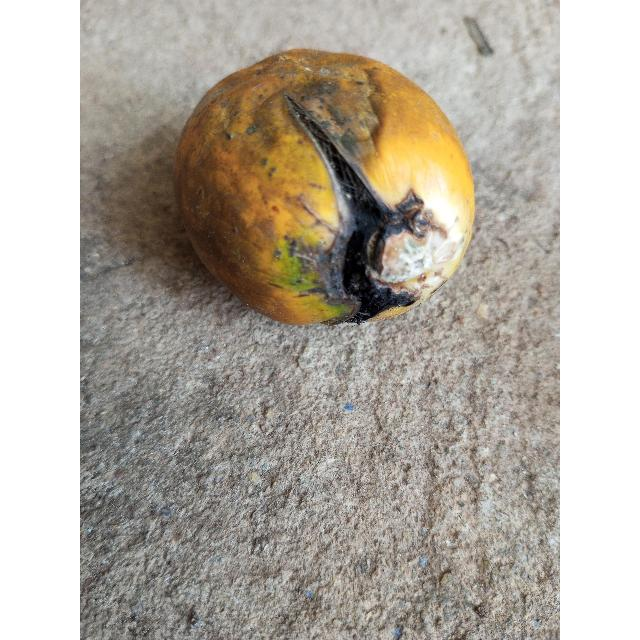damaged: (175, 50, 474, 325)
